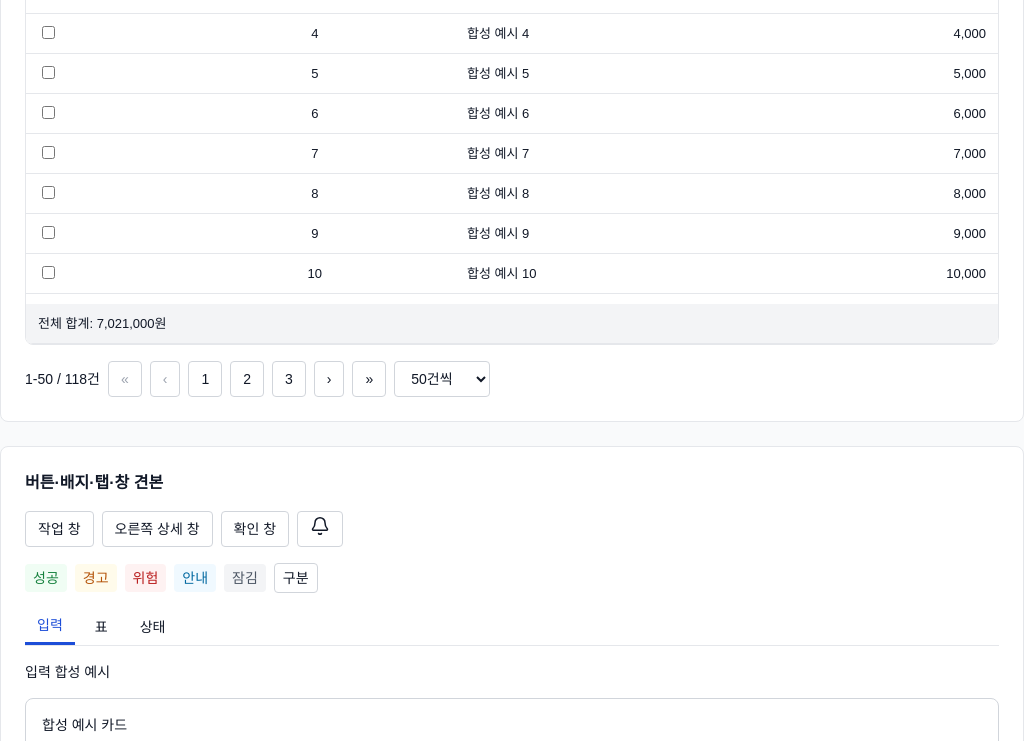
Test: 기간과 견본 입력 › 118행 전체 페이지에서 마지막101-118 범위와 20/50/100 건수를 조작한다
(page scrolled)
Expected: the text "1-50 / 118건" is shown, x1=25 y1=368 x2=100 y2=388
Expected: the button named "첫 페이지" is disabled, x1=108 y1=360 x2=142 y2=396
Click the button named "마지막 페이지". click: {"x": 369, "y": 378}
box: x1=352 y1=360 x2=386 y2=396
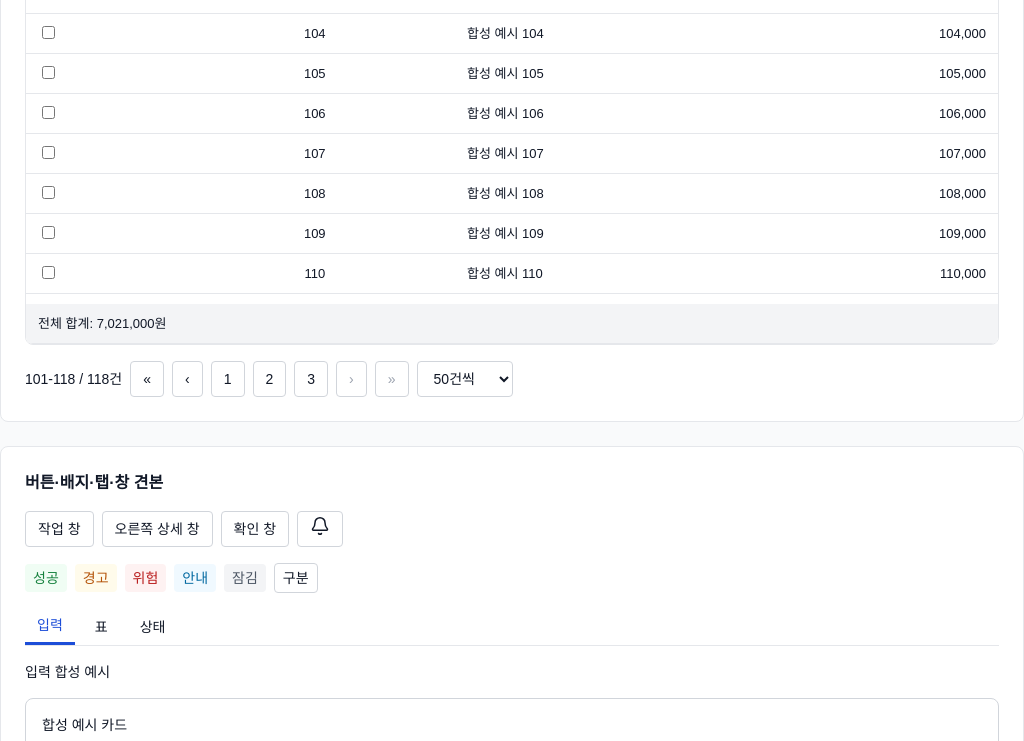
Now the text "101-118 / 118건" is shown, box x1=25 y1=368 x2=122 y2=388
Select "20건씩" in the dropdown named "견본 목록 건수". click: {"x": 465, "y": 378}
box: x1=417 y1=360 x2=513 y2=396
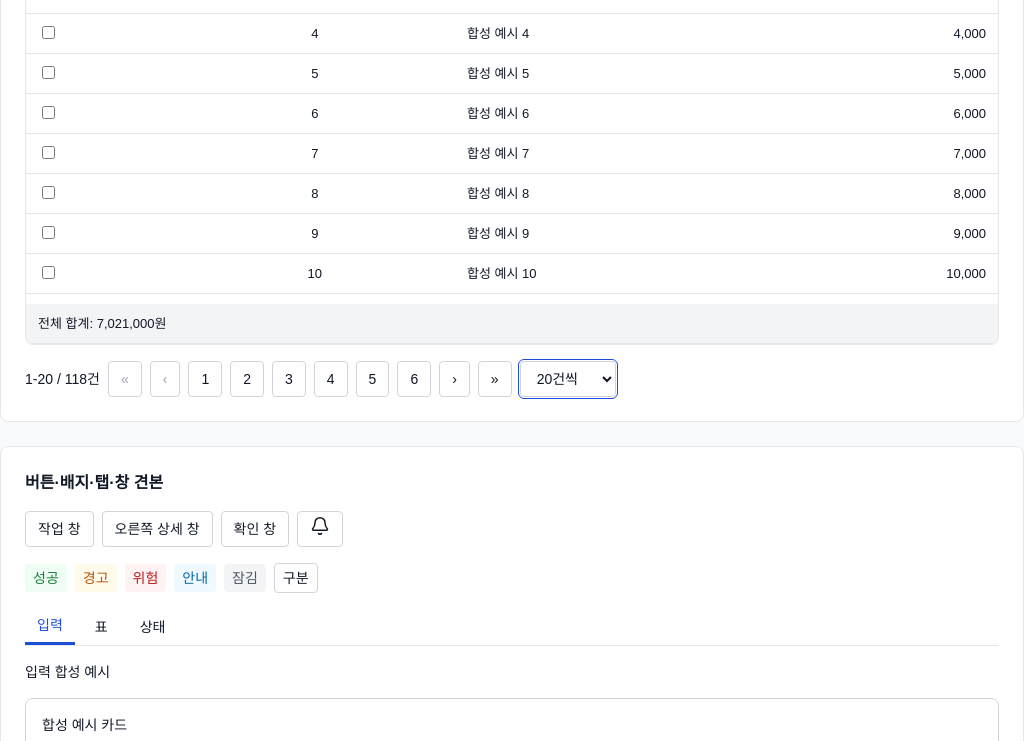
Now the text "1-20 / 118건" is shown, box x1=25 y1=368 x2=100 y2=388
Select "100건씩" in the dropdown named "견본 목록 건수". click: {"x": 568, "y": 378}
box: x1=520 y1=360 x2=616 y2=396
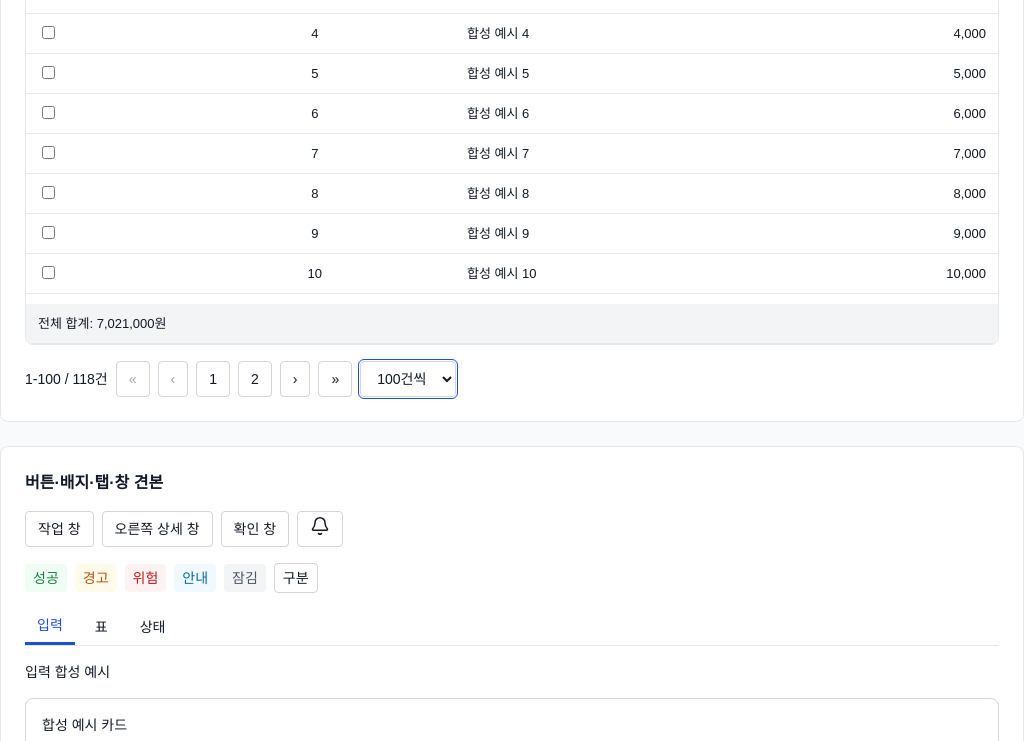
Now the text "1-100 / 118건" is shown, box x1=25 y1=368 x2=108 y2=388
